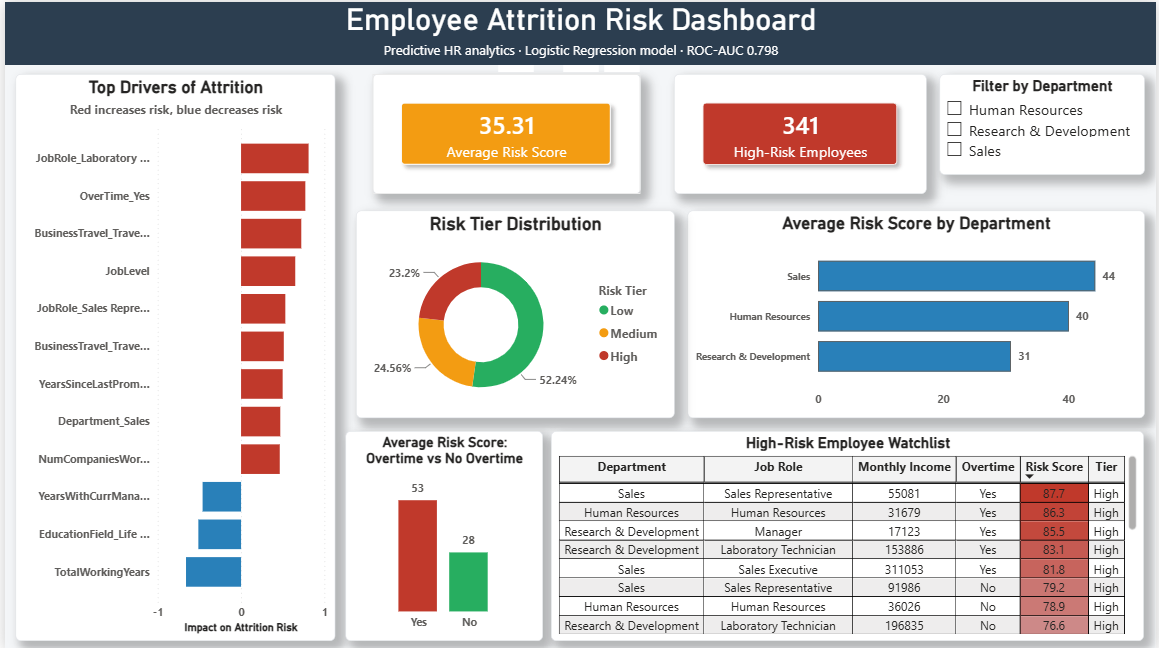

The dashboard page shown, as its layout file describes it:
{"tool":"powerbi","page":{"name":"Page 1","canvas":[1280,720],"ordinal":0},"visuals":[{"type":"cardVisual","title":"Average Attrition Risk Score","fields":{"Data":["Avg(employee_attrition_risk_scores (1).AttritionRiskScore)"]},"box":[408.2,80.2,297.9,133.2],"z":0},{"type":"cardVisual","title":"Average Attrition Risk Score","fields":{"Data":["CountNonNull(employee_attrition_risk_scores (1).RiskTier)"]},"box":[743.4,80.2,280.7,133.2],"z":1000},{"type":"barChart","title":"Average Risk Score by Department","fields":{"Category":["employee_attrition_risk_scores (1).Department"],"Y":["Avg(employee_attrition_risk_scores (1).AttritionRiskScore)"]},"box":[758.5,232.3,507.7,230.8],"z":2000},{"type":"donutChart","title":"Risk Tier Distribution","fields":{"Category":["employee_attrition_risk_scores (1).RiskTier"],"Y":["CountNonNull(employee_attrition_risk_scores (1).Age)"]},"box":[389.6,232,353.8,230.6],"z":3000},{"type":"barChart","title":"Top Drivers of Attrition","fields":{"Category":["feature_importance.Feature"],"Y":["Sum(feature_importance.Coefficient)"]},"box":[11.5,80.2,355.2,630.3],"z":4000},{"type":"clusteredColumnChart","title":"Average Risk Score: Overtime vs No Overtime","fields":{"Category":["employee_attrition_risk_scores (1).OverTime"],"Y":["Avg(employee_attrition_risk_scores (1).AttritionRiskScore)"]},"box":[378.2,477,219.2,233.5],"z":5000},{"type":"tableEx","title":"High-Risk Employee Watchlist","fields":{"Values":["employee_attrition_risk_scores (1).Department","employee_attrition_risk_scores (1).JobRole","Sum(employee_attrition_risk_scores (1).MonthlyIncome)","employee_attrition_risk_scores (1).OverTime","Avg(employee_attrition_risk_scores (1).AttritionRiskScore)","employee_attrition_risk_scores (1).RiskTier"]},"box":[607.3,477,658.9,233.5],"z":6000},{"type":"listSlicer","title":"Filter by Department","fields":{"Values":["employee_attrition_risk_scores (1).Department"]},"box":[1038.5,80.2,227.8,111.7],"z":7000},{"type":"textbox","title":"Employee Attrition Risk Dashboard","box":[0,0,1280.1,70],"z":8000}]}

Visuals, with their boxes in screenshot pixels (x1, y1, x2, y2), scaled from the page's 1280x720 canvas onto the 1159x648 screenshot:
"Average Attrition Risk Score" cardVisual: bbox=[370, 72, 639, 192]
"Average Attrition Risk Score" cardVisual: bbox=[673, 72, 927, 192]
"Average Risk Score by Department" barChart: bbox=[687, 209, 1147, 417]
"Risk Tier Distribution" donutChart: bbox=[353, 209, 673, 416]
"Top Drivers of Attrition" barChart: bbox=[10, 72, 332, 639]
"Average Risk Score: Overtime vs No Overtime" clusteredColumnChart: bbox=[342, 429, 541, 639]
"High-Risk Employee Watchlist" tableEx: bbox=[550, 429, 1147, 639]
"Filter by Department" listSlicer: bbox=[940, 72, 1147, 173]
"Employee Attrition Risk Dashboard" textbox: bbox=[0, 0, 1158, 63]
